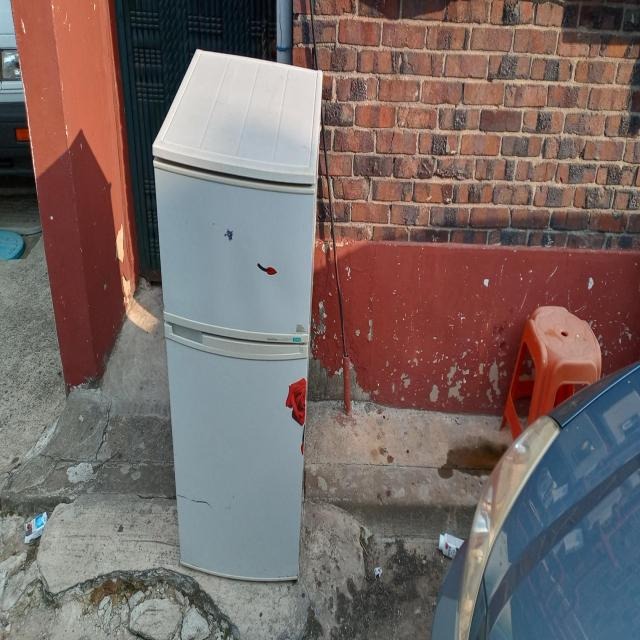refrigerator: (148, 40, 328, 590)
